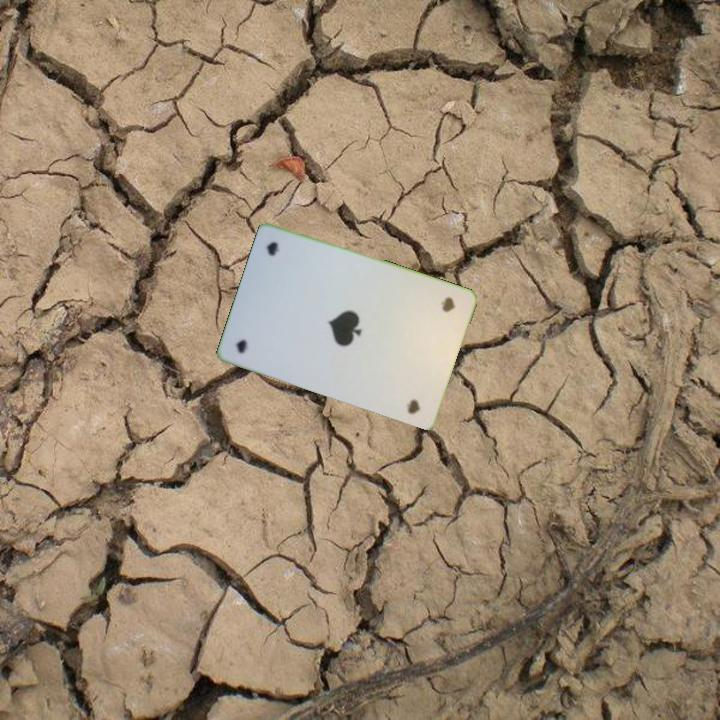s_a.png: (227, 289, 302, 370), (392, 281, 467, 361)
